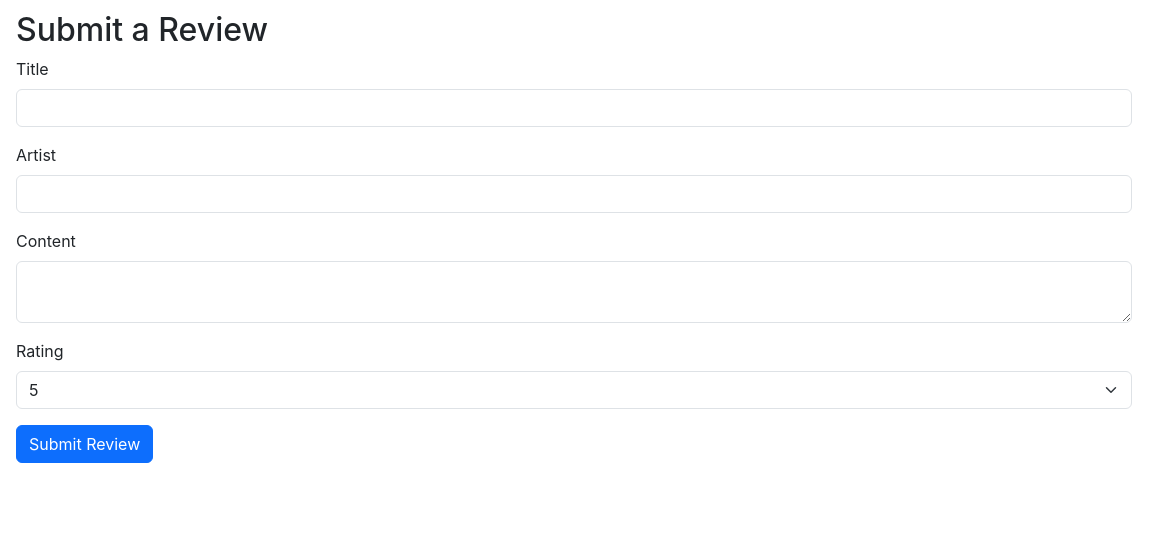
Test case: unit: blocks submit when not authenticated
Type "Great album" into the field labelled "Title" at x=574, y=108, box left=16, top=89, right=1132, bottom=127
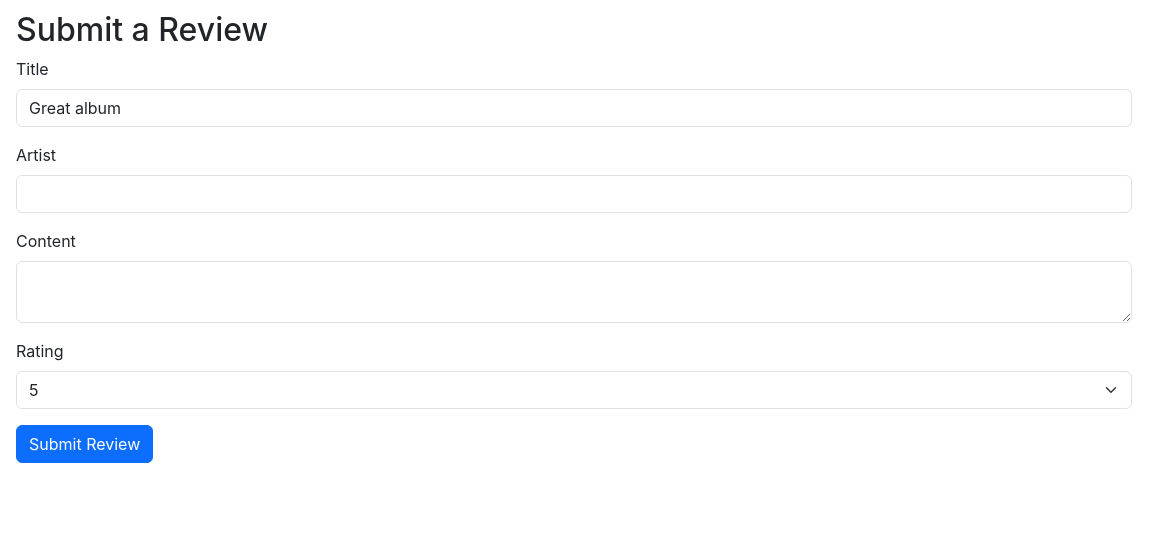
Type "Radiohead" into the field labelled "Artist" at x=574, y=194, box left=16, top=175, right=1132, bottom=213
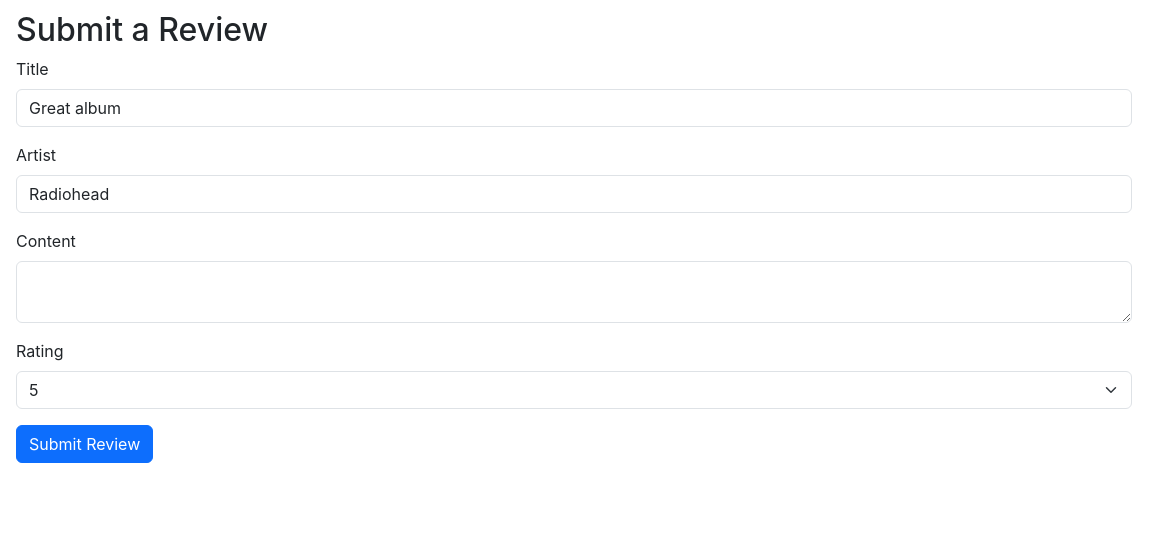
Type "Loved it" into the text box labelled "Content" at x=574, y=292, box left=16, top=261, right=1132, bottom=323
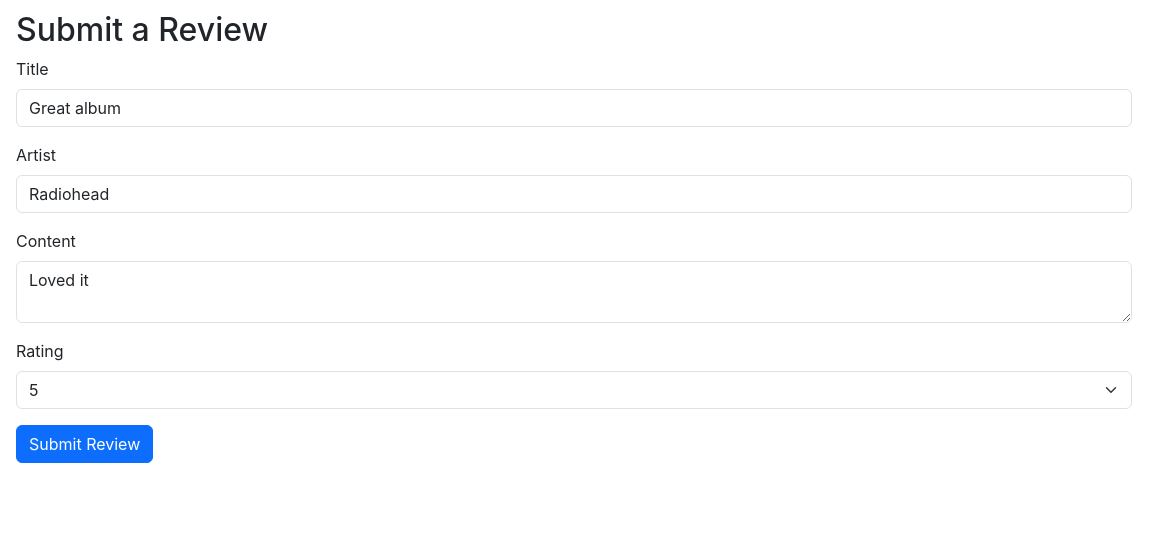
Select "4" in the dropdown labelled "Rating" at x=574, y=390, box left=16, top=371, right=1132, bottom=409
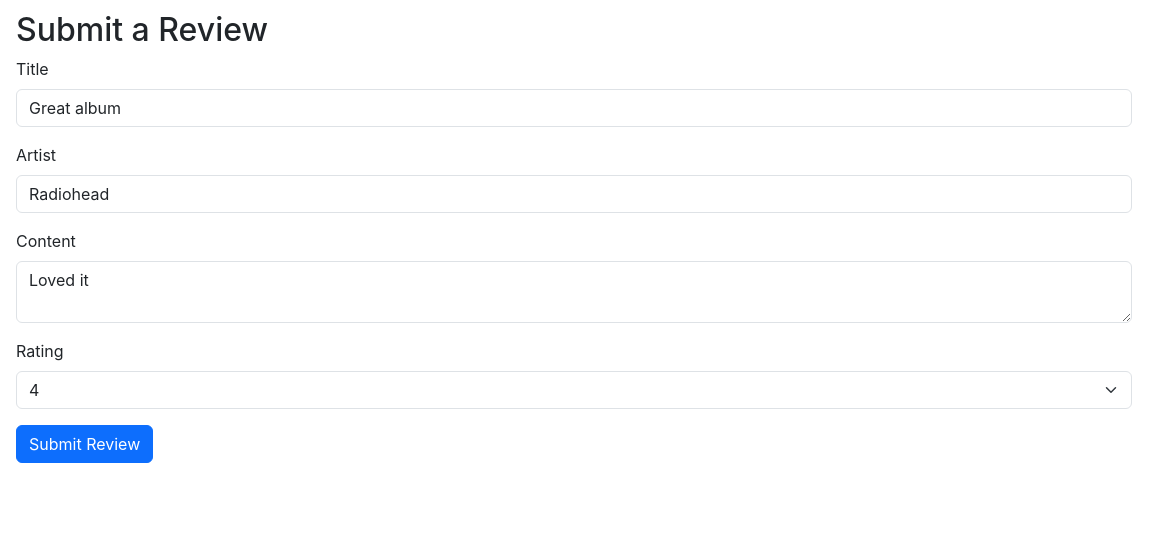
Click the button "Submit Review" at x=85, y=444, box left=16, top=425, right=153, bottom=463
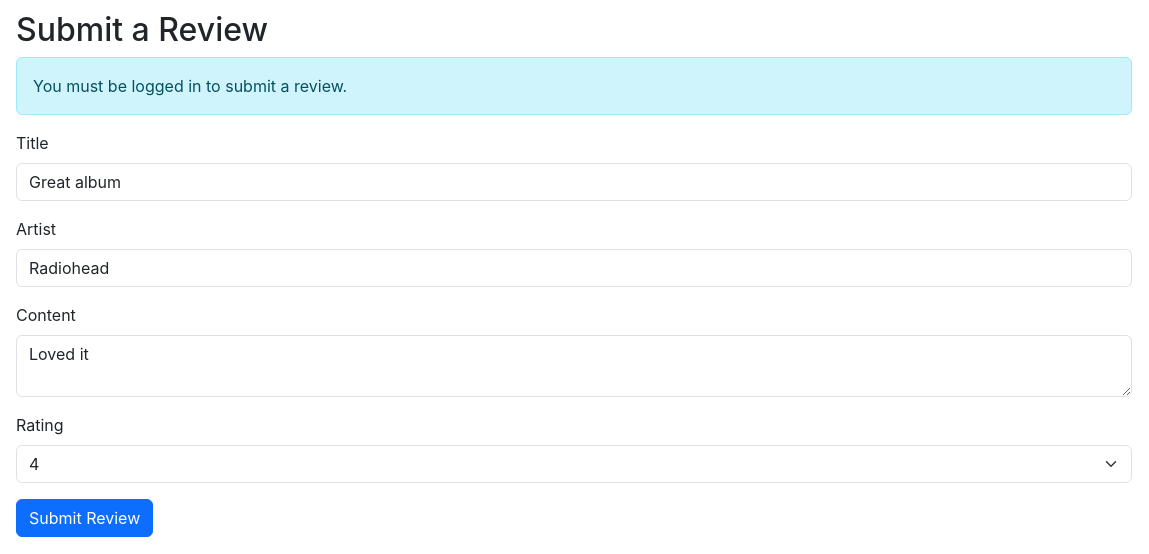
expect the text "You must be logged in to submit a review." is shown: met, box left=16, top=57, right=1132, bottom=115
